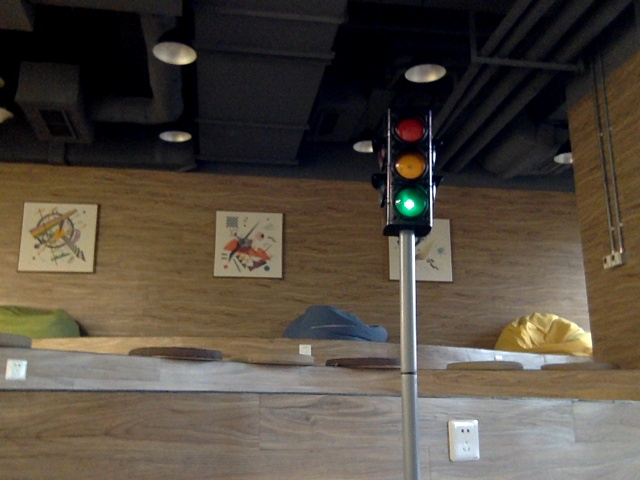green: (388, 116, 430, 220)
